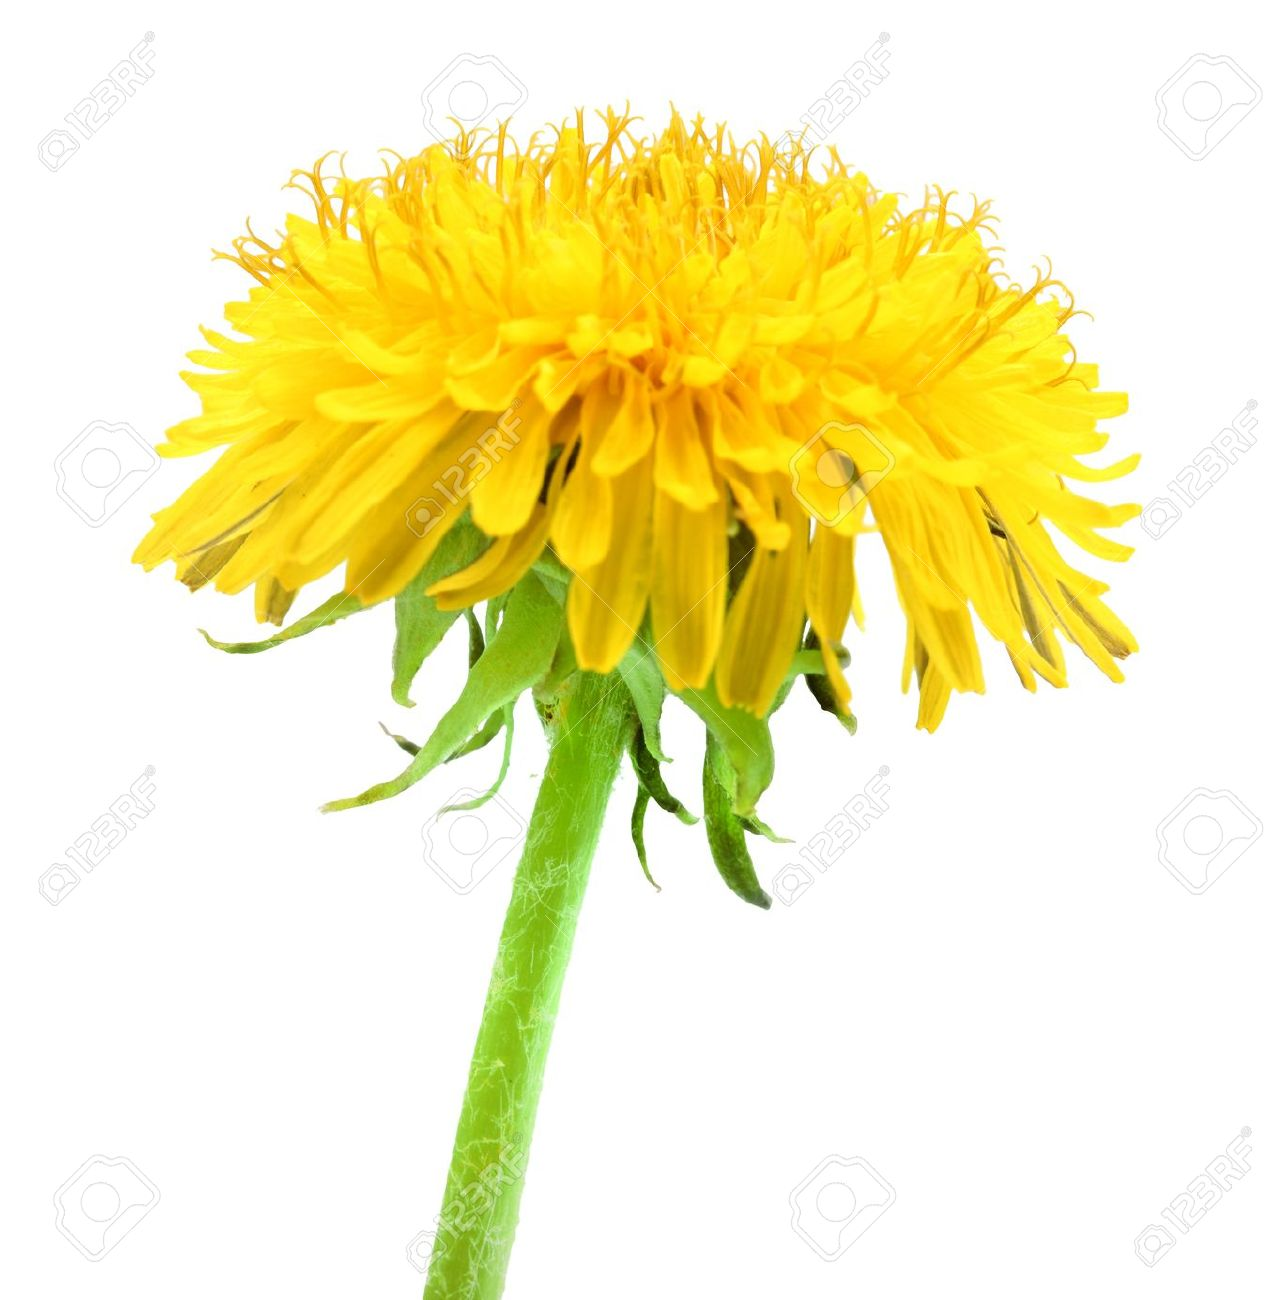dandelion: (194, 179, 1062, 627)
